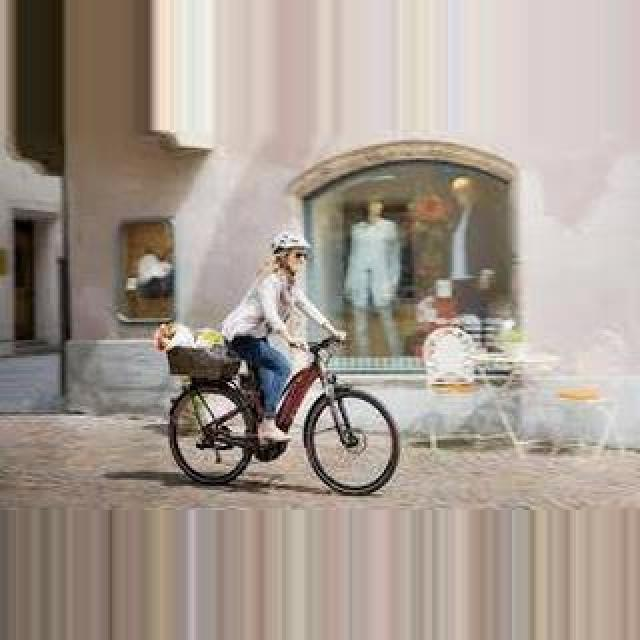MC-Bike: (220, 232, 336, 450), (342, 194, 408, 360)
Person: (164, 322, 400, 494)
